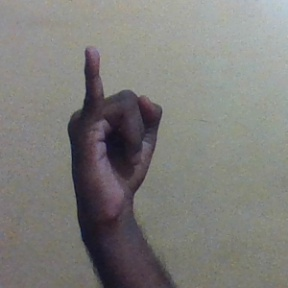I: (65, 39, 170, 214)
